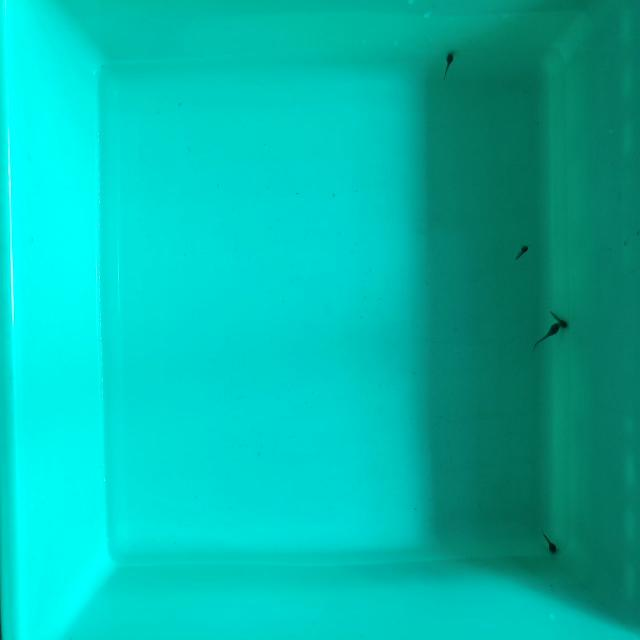lele: (531, 320, 562, 354), (546, 307, 570, 331), (541, 529, 559, 554), (513, 239, 531, 263), (443, 50, 455, 82)
